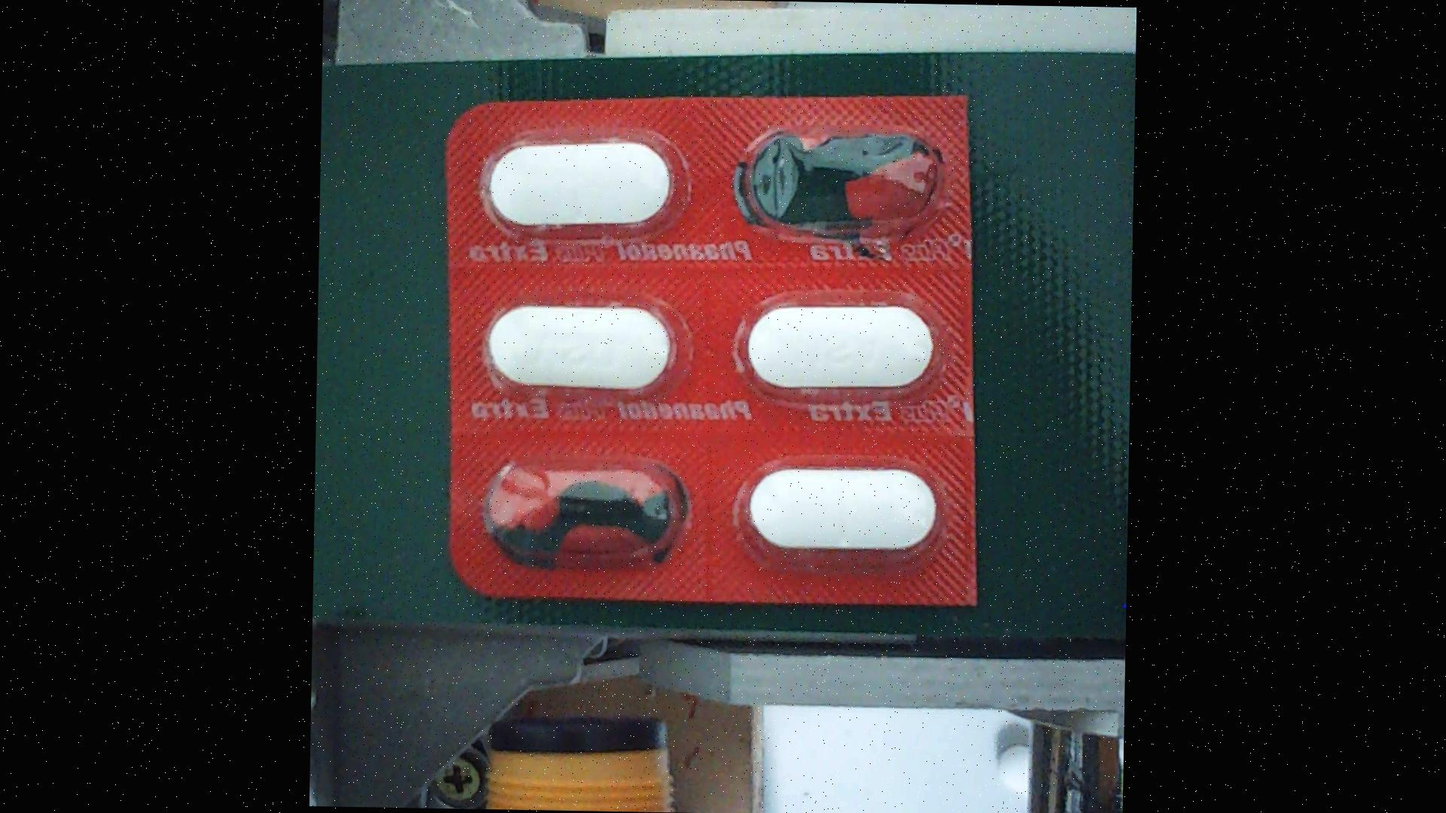Empty: (481, 452, 696, 573), (732, 119, 947, 240)
Full: (736, 449, 951, 570), (474, 284, 689, 405), (736, 282, 950, 403), (472, 120, 686, 241)
